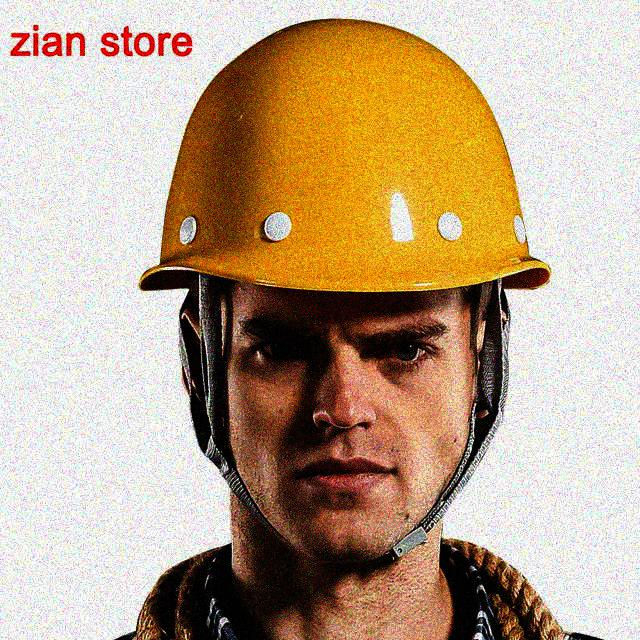helmet: (134, 17, 551, 555)
